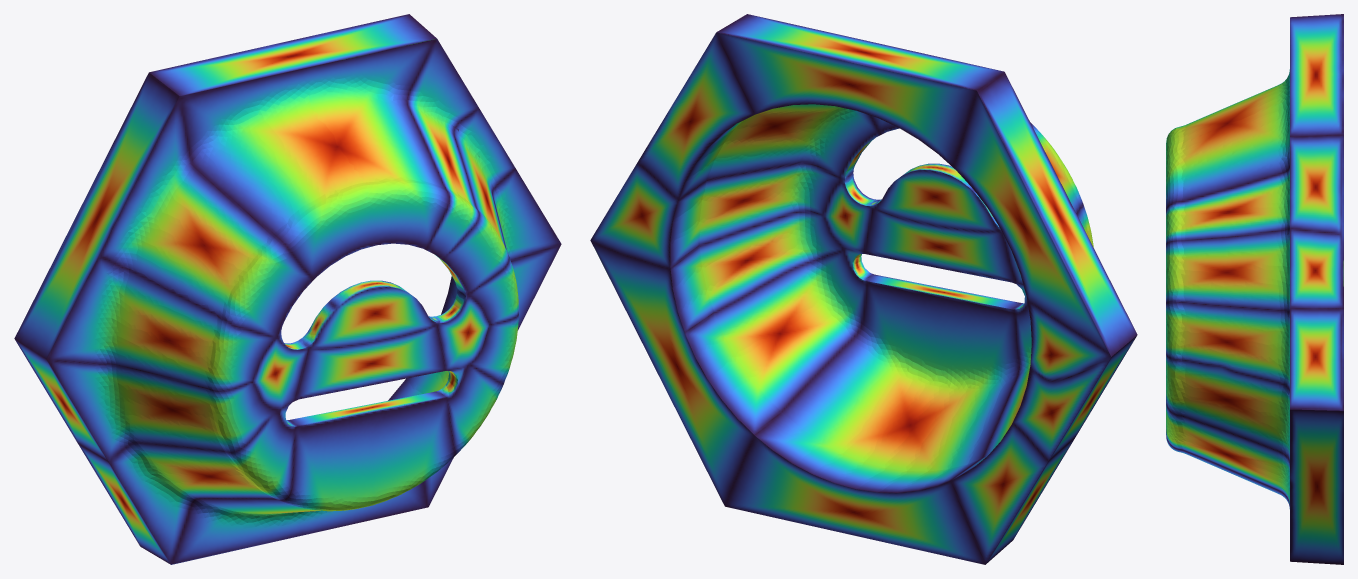
Rendered from gen2.glb.
3 views of the same model, side by side, from view 1: azimuth 30°, elevation 25°; view 2: azimuth 150°, elevation 25°; view 3: azimuth 270°, elevation 25° (orthographic). The views are drawn at different scales.
Parts seen in each view (by area): view 1: Node; view 2: Node; view 3: Node.
Part boxes in pixels (left/top/right/bottom): Node: left=14, top=14, right=561, bottom=564; Node: left=590, top=14, right=1137, bottom=564; Node: left=1166, top=14, right=1343, bottom=564.
Bounding box in the file's own units: 103 × 89.79 × 33.
Materials: 1 (1 with a texture image).
